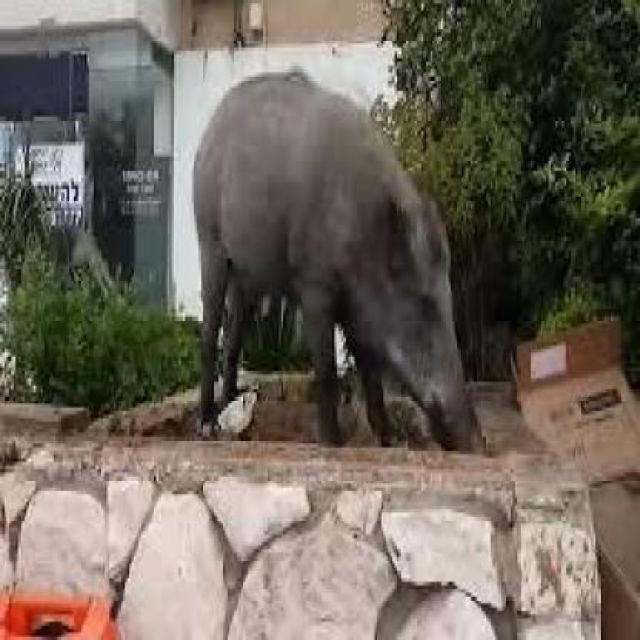wildboar: (192, 63, 476, 452)
